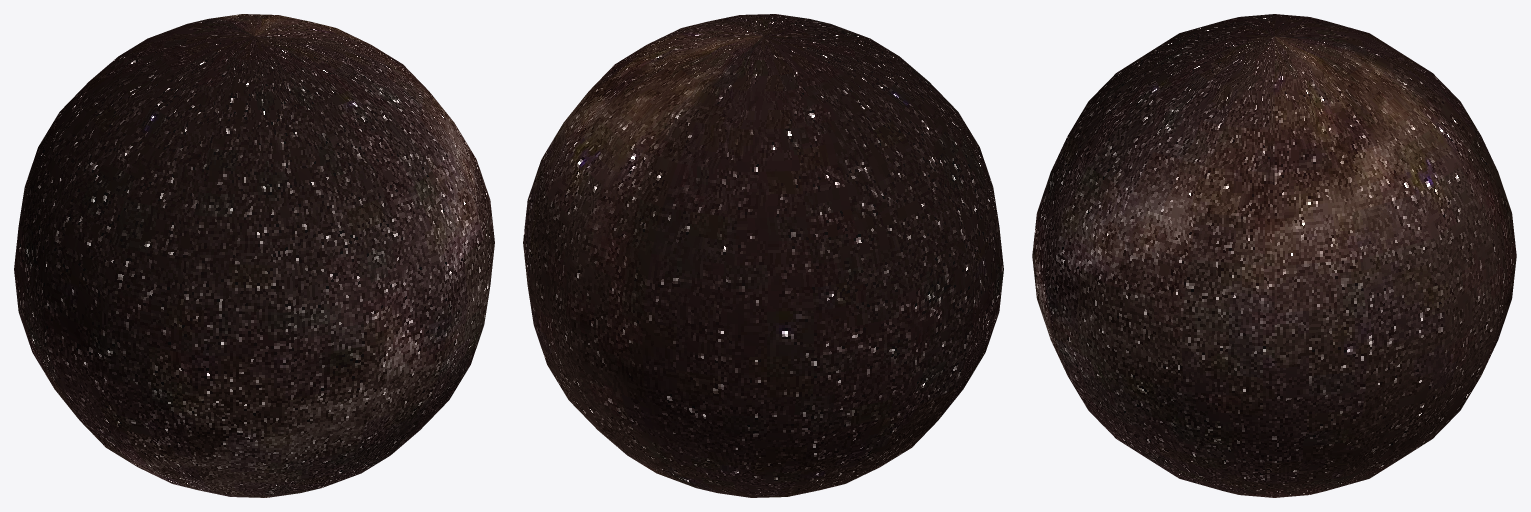
The model's file is psx_solar_system.glb.
3 renders of one model, left to right at view 1: azimuth 30°, elevation 25°; view 2: azimuth 150°, elevation 25°; view 3: azimuth 270°, elevation 25°, orthographic.
Visible parts, largest first — view 1: Space_space_0; view 2: Space_space_0; view 3: Space_space_0.
Boxes of the visible parts, <box> form: Space_space_0: <box>14,14,494,497</box>; Space_space_0: <box>523,14,1003,497</box>; Space_space_0: <box>1032,14,1516,497</box>.
Bounding box in the file's own units: 250 × 250 × 250.
Materials: 13 (13 with a texture image).
